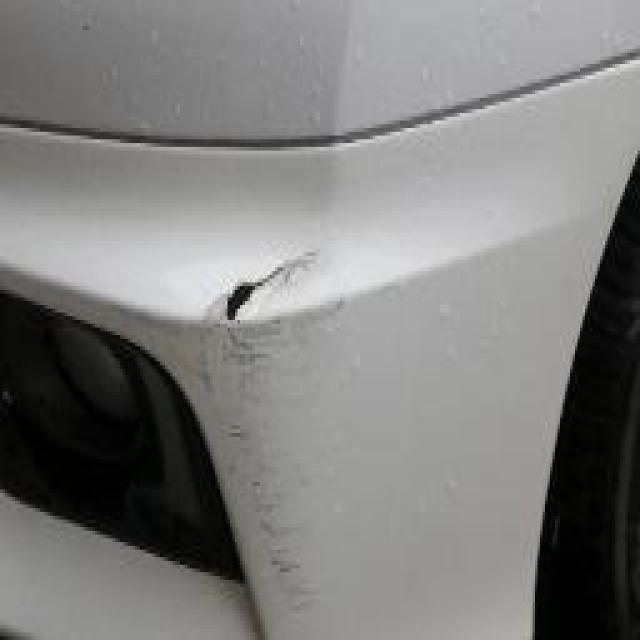Bumper: (157, 220, 379, 630)
